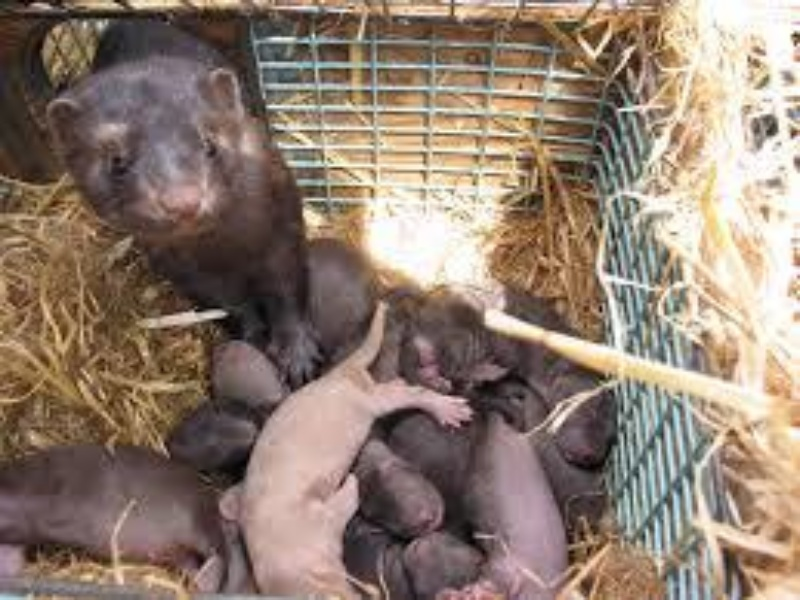minkish: (51, 19, 330, 372), (225, 294, 468, 600), (1, 431, 231, 566), (451, 406, 578, 598)
